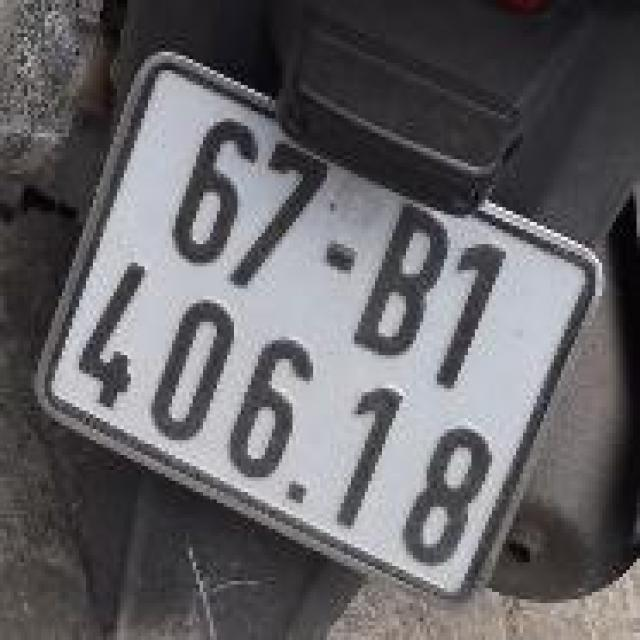0: (140, 289, 247, 463)
1: (413, 229, 517, 404), (312, 374, 416, 541)
4: (64, 253, 181, 422)
6: (214, 324, 327, 500), (161, 108, 269, 282)
7: (223, 136, 336, 313)
8: (386, 412, 505, 585)
B: (344, 196, 463, 377)
